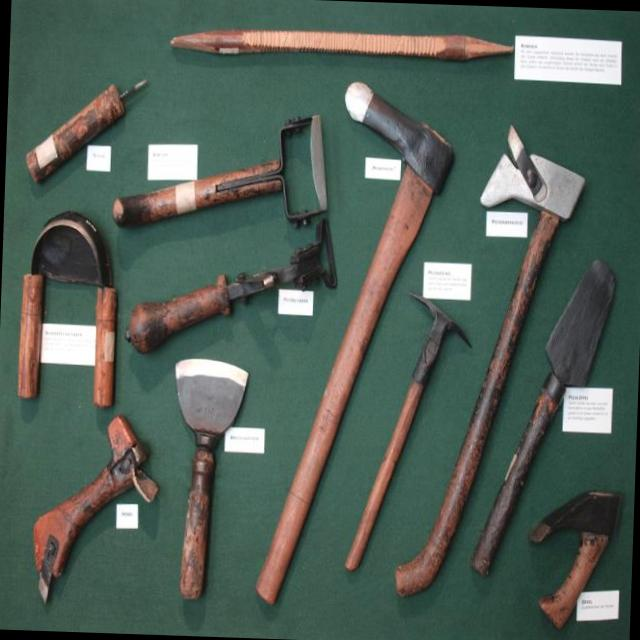Axe: (395, 125, 584, 595), (344, 292, 470, 570)
